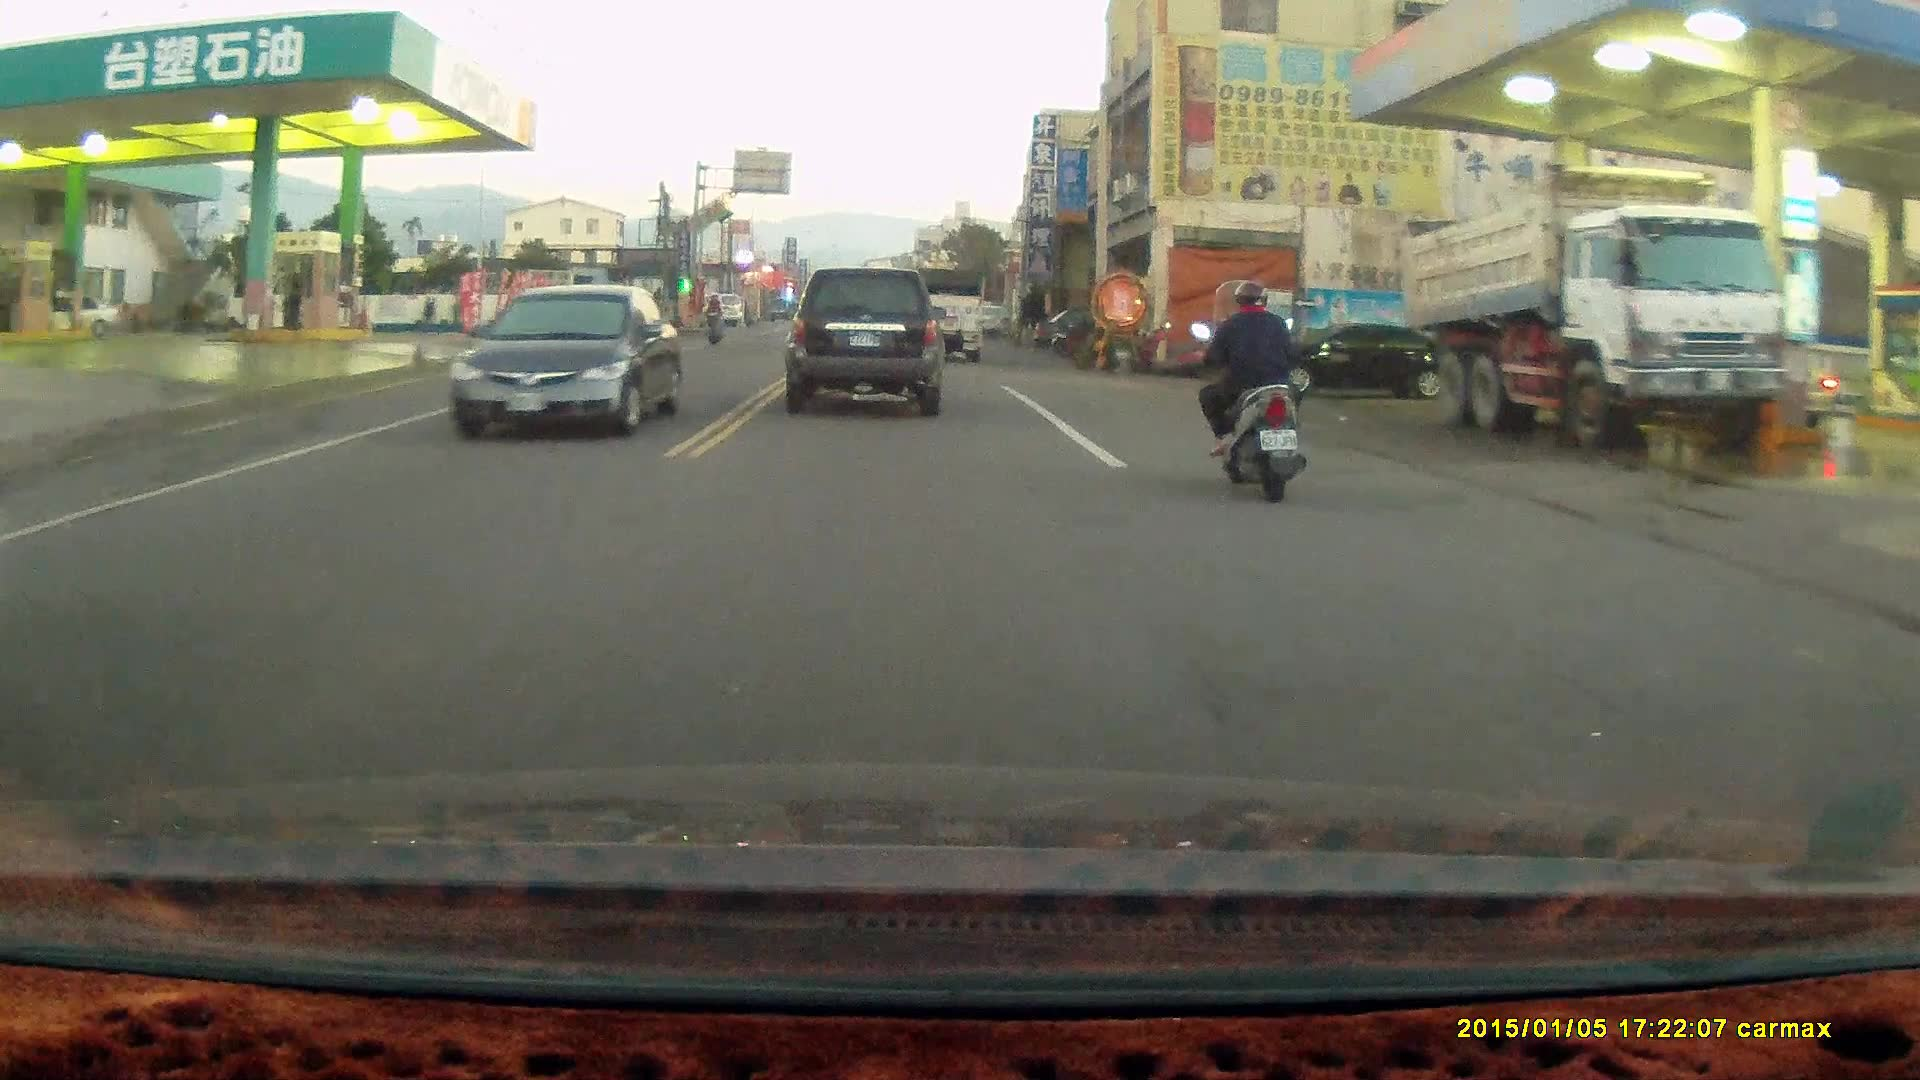rider: (1188, 277, 1305, 504), (698, 290, 726, 348)
vehicle: (1401, 157, 1784, 452), (453, 282, 682, 440), (785, 263, 949, 414), (1279, 324, 1440, 401), (907, 265, 989, 365)
